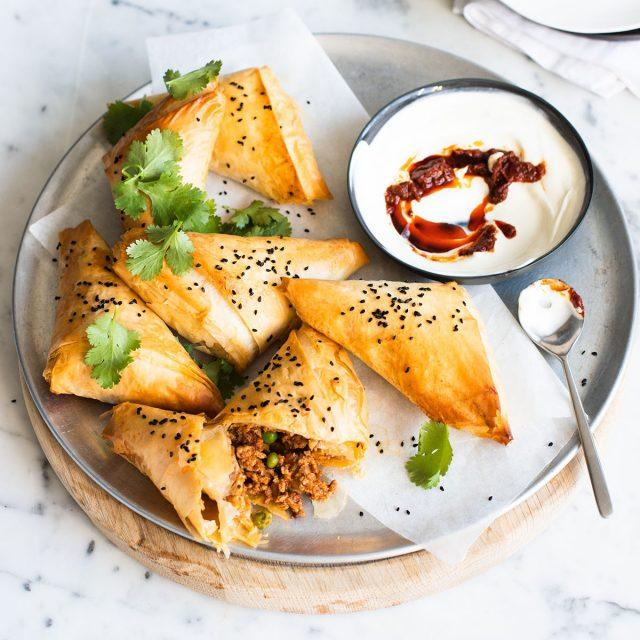samosa: (286, 281, 511, 443), (44, 220, 224, 414), (190, 234, 368, 351)
